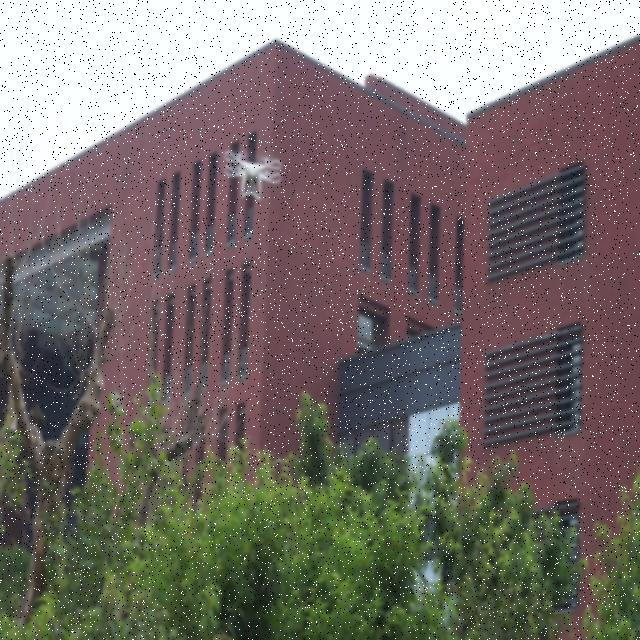UAV: (224, 150, 282, 200)
